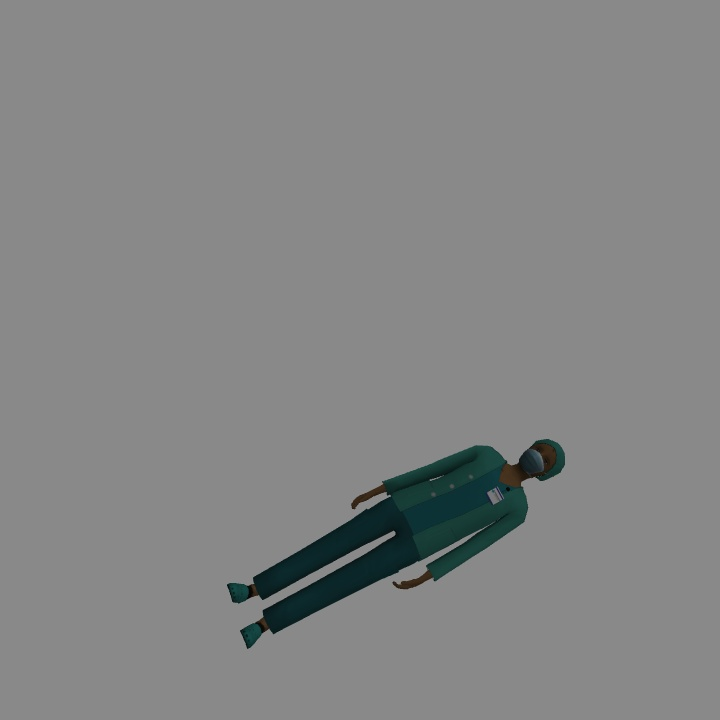victim: (230, 435, 566, 644)
